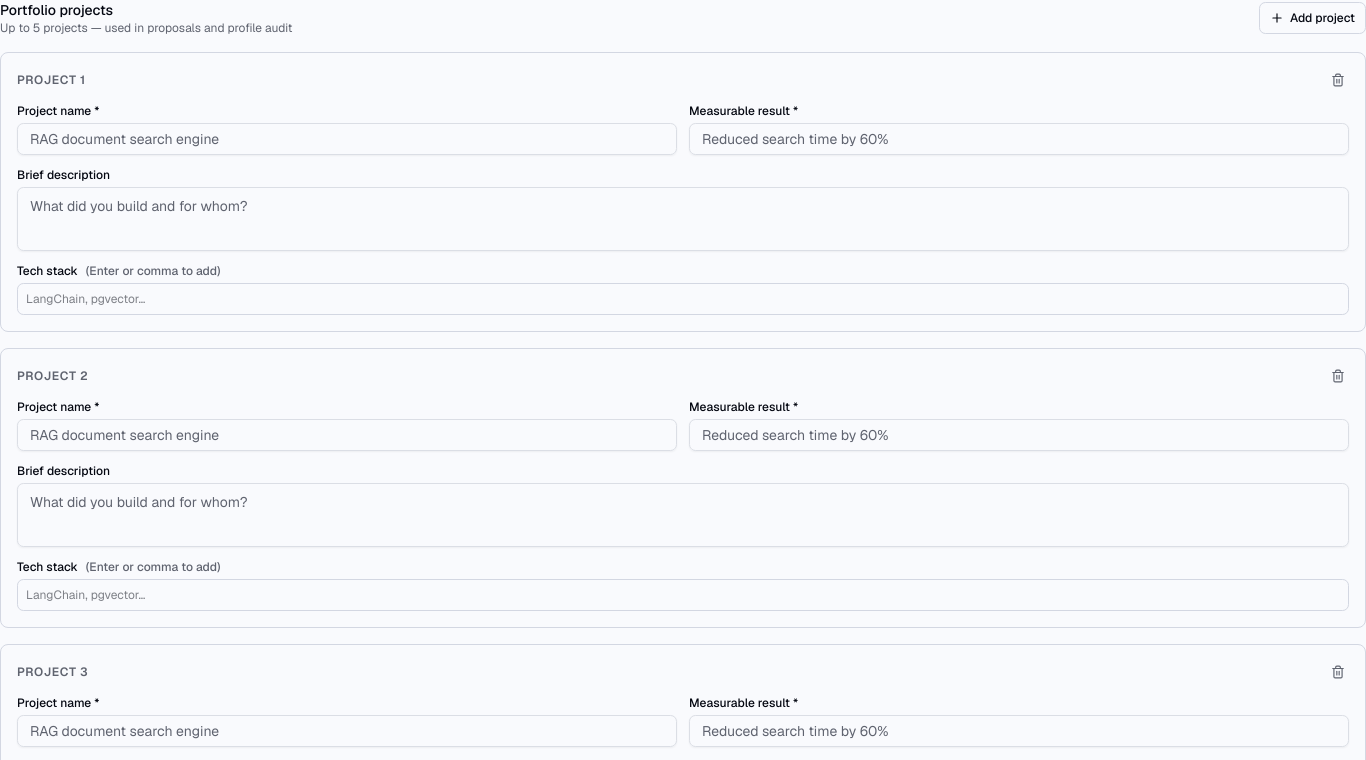
Test: PortfolioStep › caps the project list at five and hides the add button at the limit
Click the button "Add project" at (1312, 18), box [1259,2,1365,34]
(page scrolled)
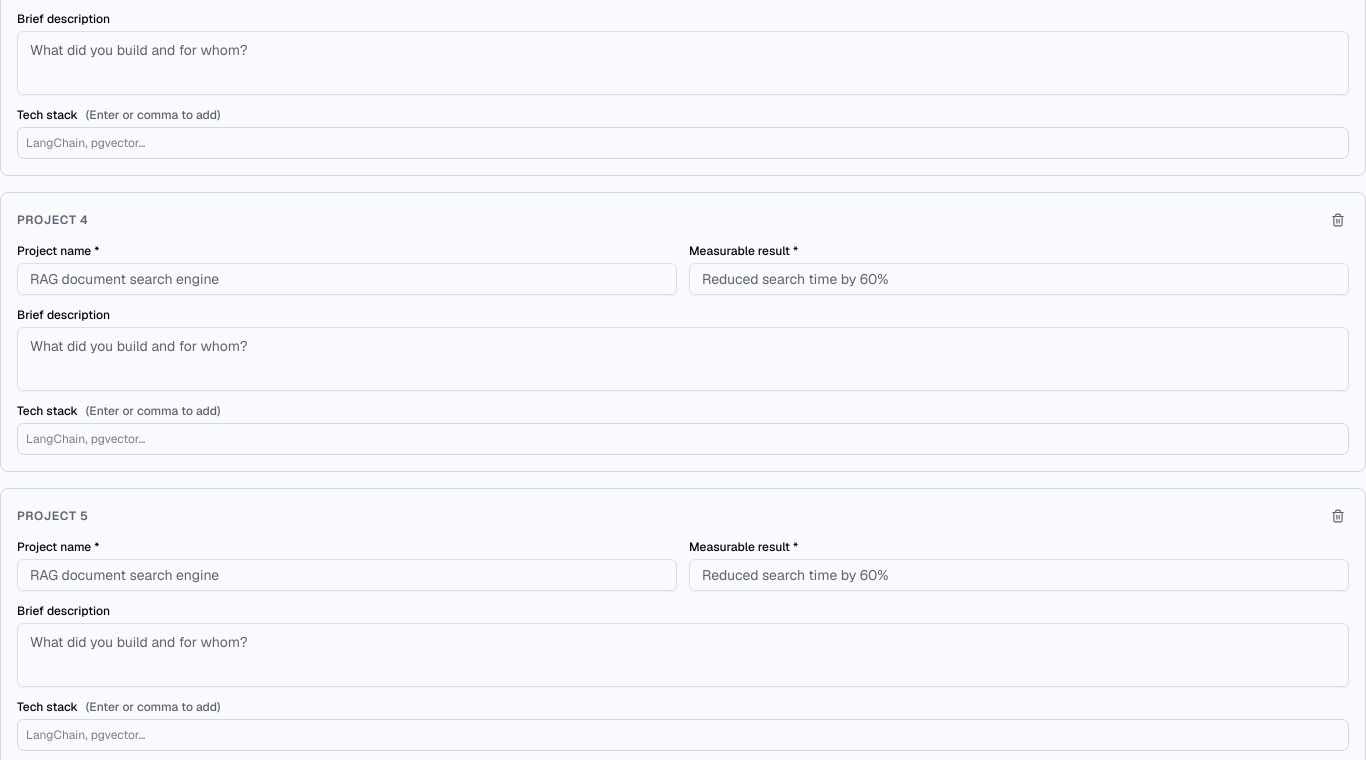
Result: the text "Project 5" is shown at [17,508,88,524]
Result: the button "Add project" is gone
